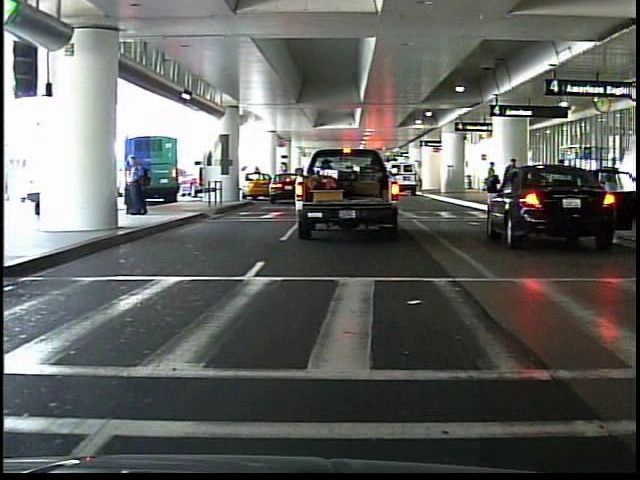person: (124, 152, 151, 218)
